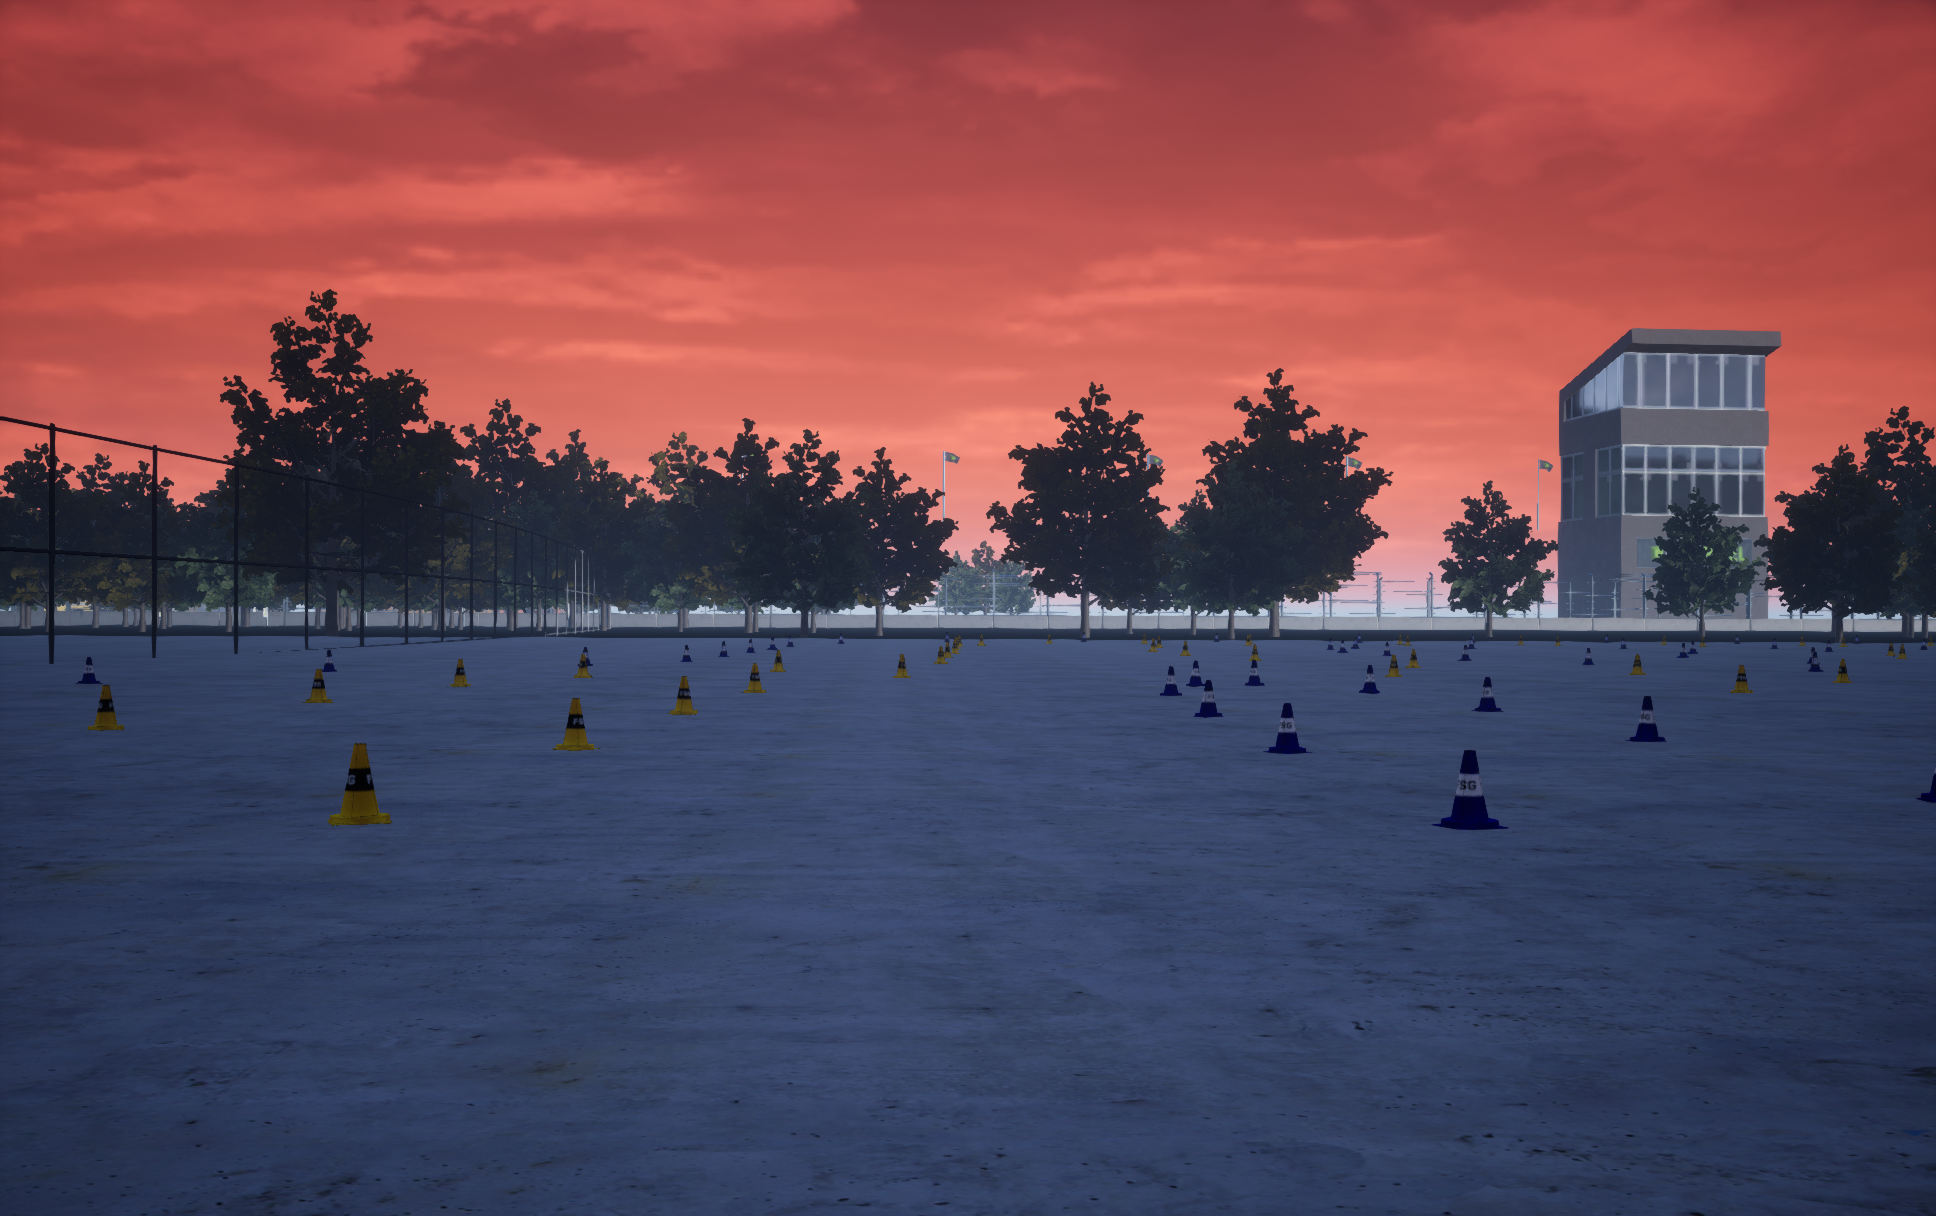blue: (326, 742, 392, 825), (552, 698, 600, 749), (87, 685, 123, 730), (667, 677, 698, 714), (301, 670, 333, 702), (741, 663, 765, 692), (447, 658, 471, 686), (1730, 665, 1752, 692), (1832, 658, 1851, 682), (574, 654, 593, 677), (892, 654, 911, 677), (1385, 656, 1401, 677), (1629, 654, 1645, 674), (770, 650, 784, 671), (1405, 649, 1420, 667), (934, 646, 947, 663)
yellow: (1432, 749, 1507, 829), (1264, 703, 1311, 754), (1625, 696, 1666, 741), (1471, 677, 1503, 712), (1194, 679, 1223, 717), (76, 657, 102, 684), (1915, 766, 1935, 801), (1160, 665, 1181, 695), (1359, 665, 1378, 693), (1245, 660, 1264, 685), (1187, 660, 1203, 686), (322, 650, 336, 671), (577, 647, 593, 665), (1809, 651, 1823, 671), (679, 644, 692, 661)
